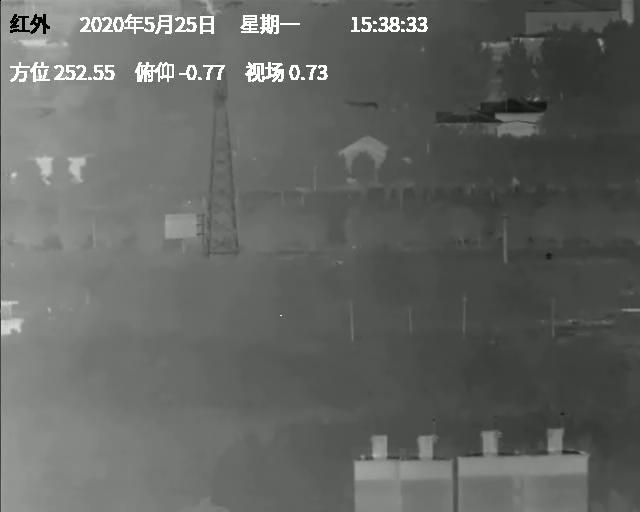uav: (350, 243, 358, 251)
